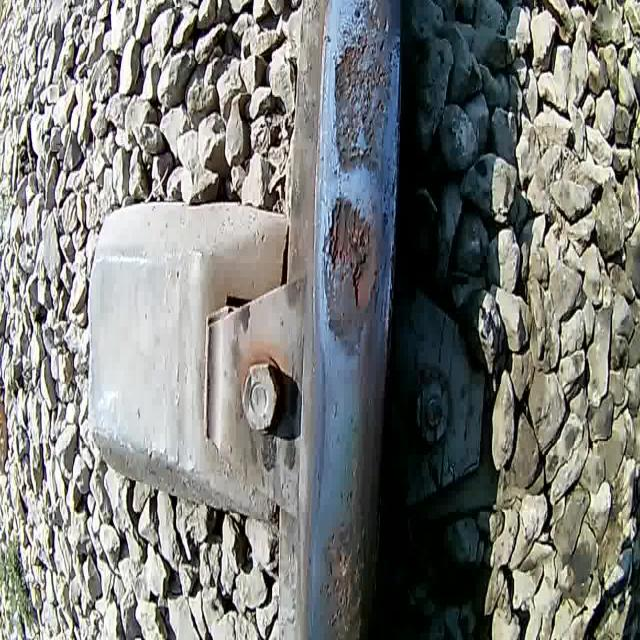Spallings: (328, 3, 392, 172), (324, 193, 373, 314), (327, 526, 363, 632)
Squats: (326, 0, 396, 181), (320, 190, 385, 363), (323, 510, 368, 640)
